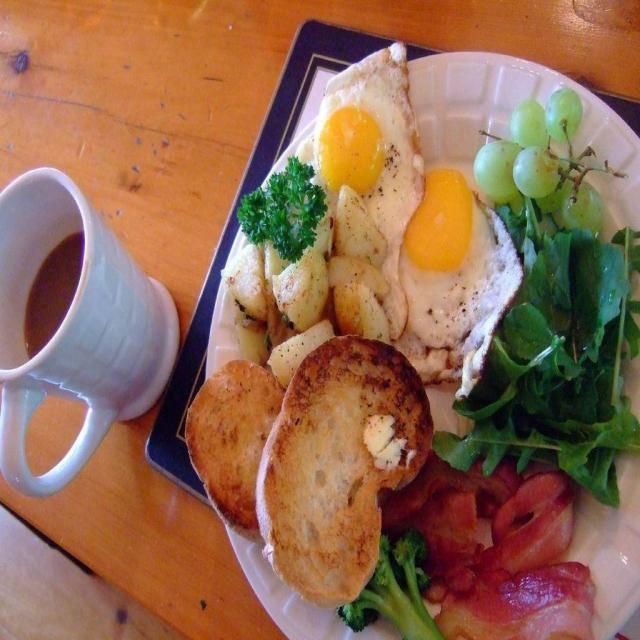cup-handle: (0, 164, 181, 498)
